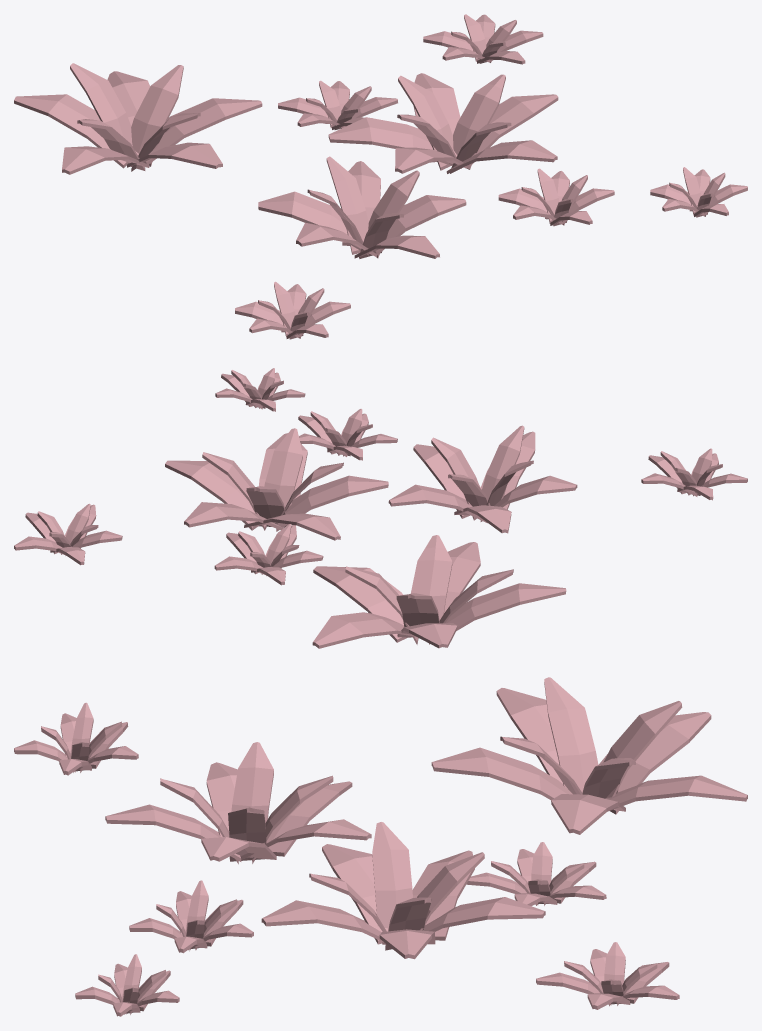
Rendered from common_flower.glb.
3 renders of one model, top to bottom at view 1: azimuth 30°, elevation 25°; view 2: azimuth 150°, elevation 25°; view 3: azimuth 270°, elevation 25°, orthographic. The views are drawn at different scales.
Parts seen in each view (by area): view 1: Plane.074; view 2: Plane.074; view 3: Plane.074.
Boxes of the visible parts, left/top/right/bottom form: Plane.074: left=14, top=14, right=747, bottom=339; Plane.074: left=14, top=368, right=747, bottom=648; Plane.074: left=14, top=677, right=747, bottom=1016.
Size of the model in its own units: 0.9068 by 0.1362 by 0.9454.
